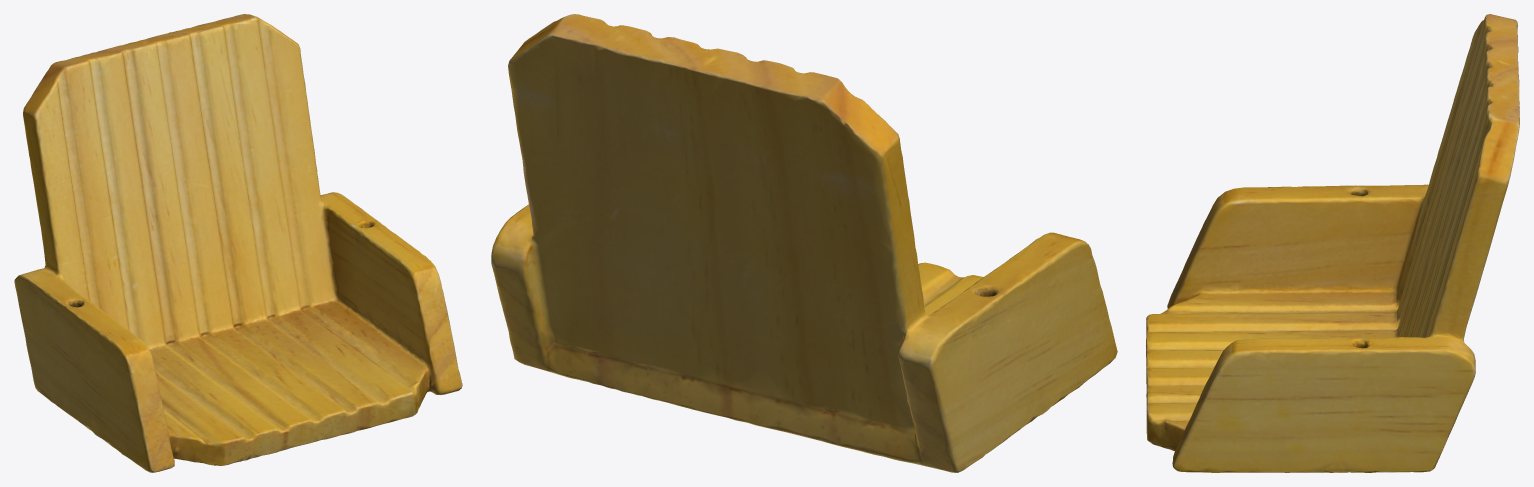
Rendered from 3D_Dollhouse_Swing.glb.
The picture shows the model from 3 angles, left to right: view 1: azimuth 30°, elevation 25°; view 2: azimuth 150°, elevation 25°; view 3: azimuth 270°, elevation 25°; orthographic projection. The views are drawn at different scales.
Visible parts, largest first — view 1: 3D_Dollhouse_Swing; view 2: 3D_Dollhouse_Swing; view 3: 3D_Dollhouse_Swing.
Boxes of the visible parts, x1=… form: 3D_Dollhouse_Swing: x1=14, y1=14, x2=462, y2=472; 3D_Dollhouse_Swing: x1=491, y1=14, x2=1117, y2=472; 3D_Dollhouse_Swing: x1=1146, y1=14, x2=1519, y2=472.
Bounding box in the file's own units: 0.1048 × 0.0922 × 0.0953.
1 material, 1 textured.
